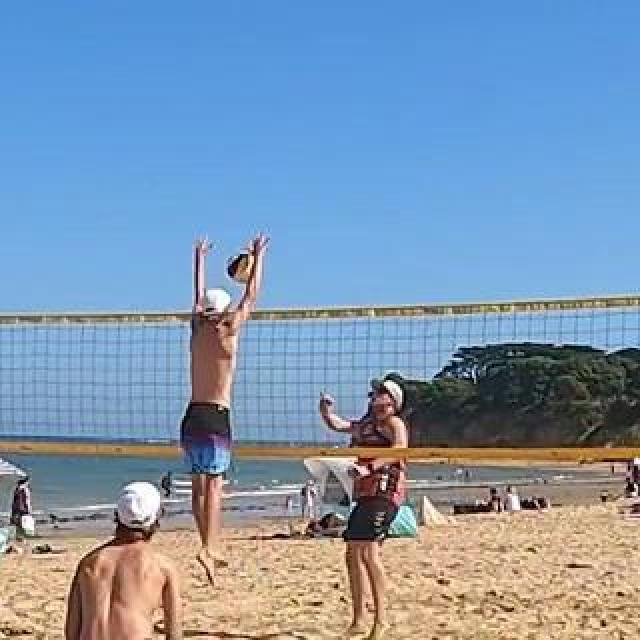volleyball: (228, 253, 258, 283)
